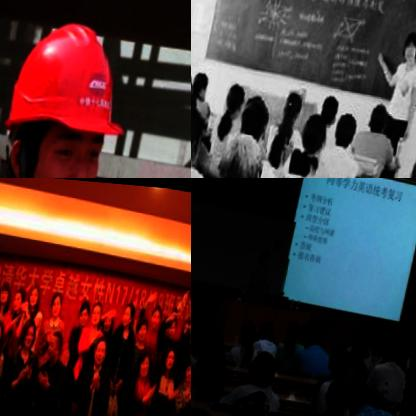head: (218, 126, 275, 178), (253, 343, 288, 387), (243, 89, 273, 134), (303, 104, 332, 148), (328, 370, 360, 409), (354, 369, 385, 409), (336, 102, 364, 145), (191, 100, 210, 161), (224, 76, 251, 117), (368, 90, 395, 131), (282, 80, 308, 120), (208, 321, 237, 356), (332, 336, 359, 370), (385, 325, 411, 359), (397, 17, 416, 62), (322, 84, 343, 118), (22, 313, 41, 350), (244, 310, 266, 341), (196, 311, 219, 340), (48, 328, 67, 362), (192, 65, 213, 95), (95, 333, 114, 366), (163, 340, 182, 373), (356, 332, 375, 361), (288, 313, 309, 336), (191, 311, 204, 348), (141, 349, 158, 377), (314, 315, 333, 340), (13, 284, 29, 313), (263, 312, 283, 335), (122, 297, 138, 325), (166, 308, 182, 336), (150, 301, 165, 329), (51, 289, 67, 315), (138, 310, 154, 336), (103, 306, 118, 332), (301, 315, 317, 338), (361, 319, 378, 340), (79, 298, 93, 323), (91, 297, 105, 322), (0, 277, 14, 301), (262, 241, 276, 262), (30, 281, 41, 305), (183, 311, 191, 336), (0, 317, 7, 345), (191, 288, 197, 315), (191, 66, 196, 94), (185, 355, 191, 378)
helmet: (0, 0, 156, 178)
